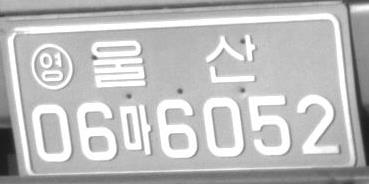0: (202, 96, 244, 158), (31, 102, 73, 163)
2: (295, 93, 340, 155)
5: (247, 94, 292, 156)
6: (155, 98, 199, 158), (76, 101, 118, 162)
마: (118, 104, 153, 155)
영: (30, 43, 73, 91)
울산_D: (90, 33, 257, 88)
